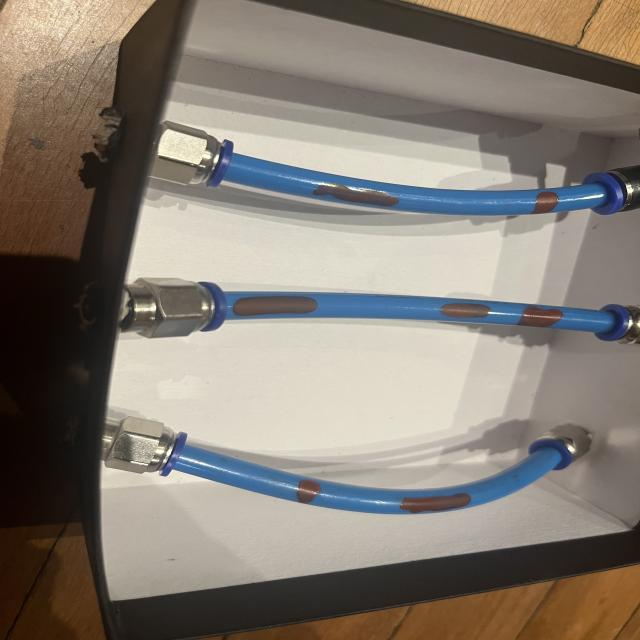hose_damage: (309, 181, 406, 210), (396, 489, 482, 516), (229, 294, 321, 318), (434, 299, 494, 320), (291, 476, 328, 508), (517, 304, 563, 329), (531, 190, 562, 217)
